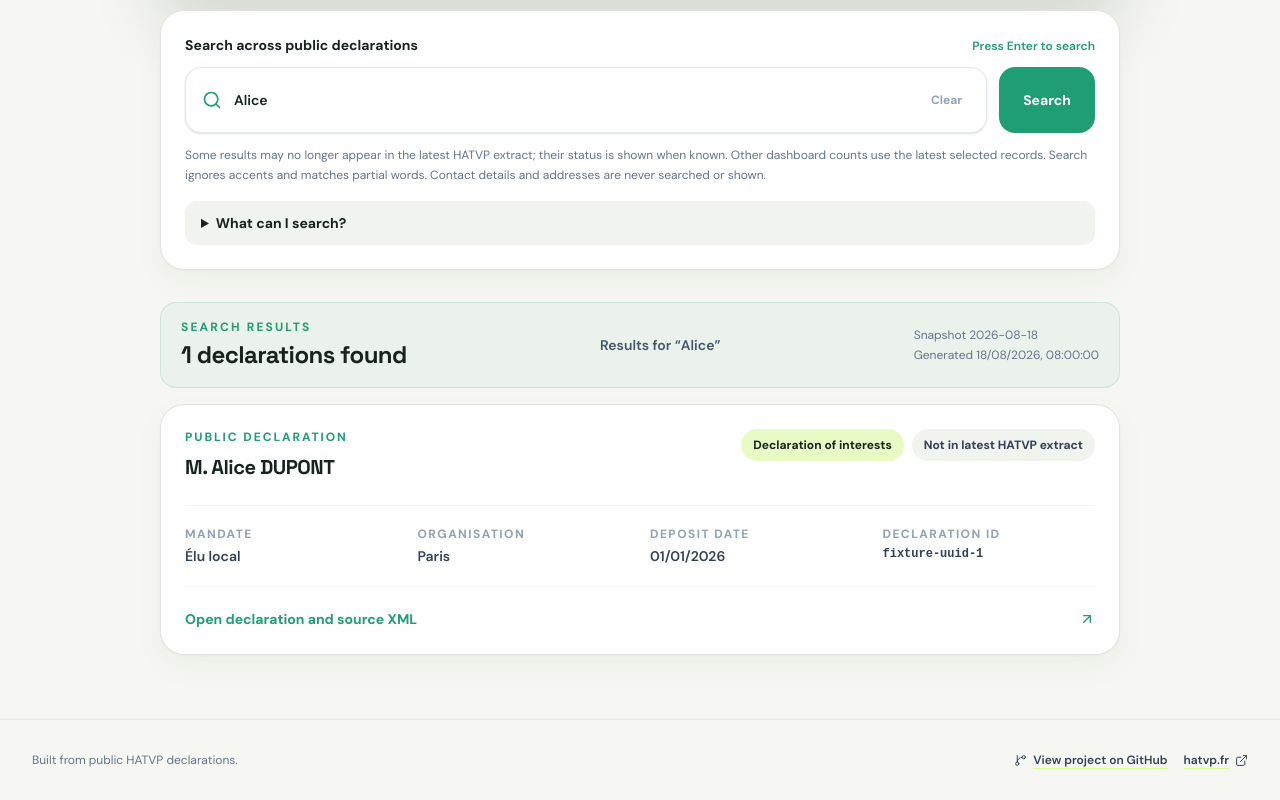
Test: dashboard application › labels a declaration preserved from an earlier HATVP extract
(page scrolled)
Expected: the text "Not in latest HATVP extract" is shown, top-left (912, 429), bottom-right (1095, 461)
Click the link "Open declaration and source XML".
click(301, 619)  # box top-left (185, 586), bottom-right (1095, 630)
(page scrolled)
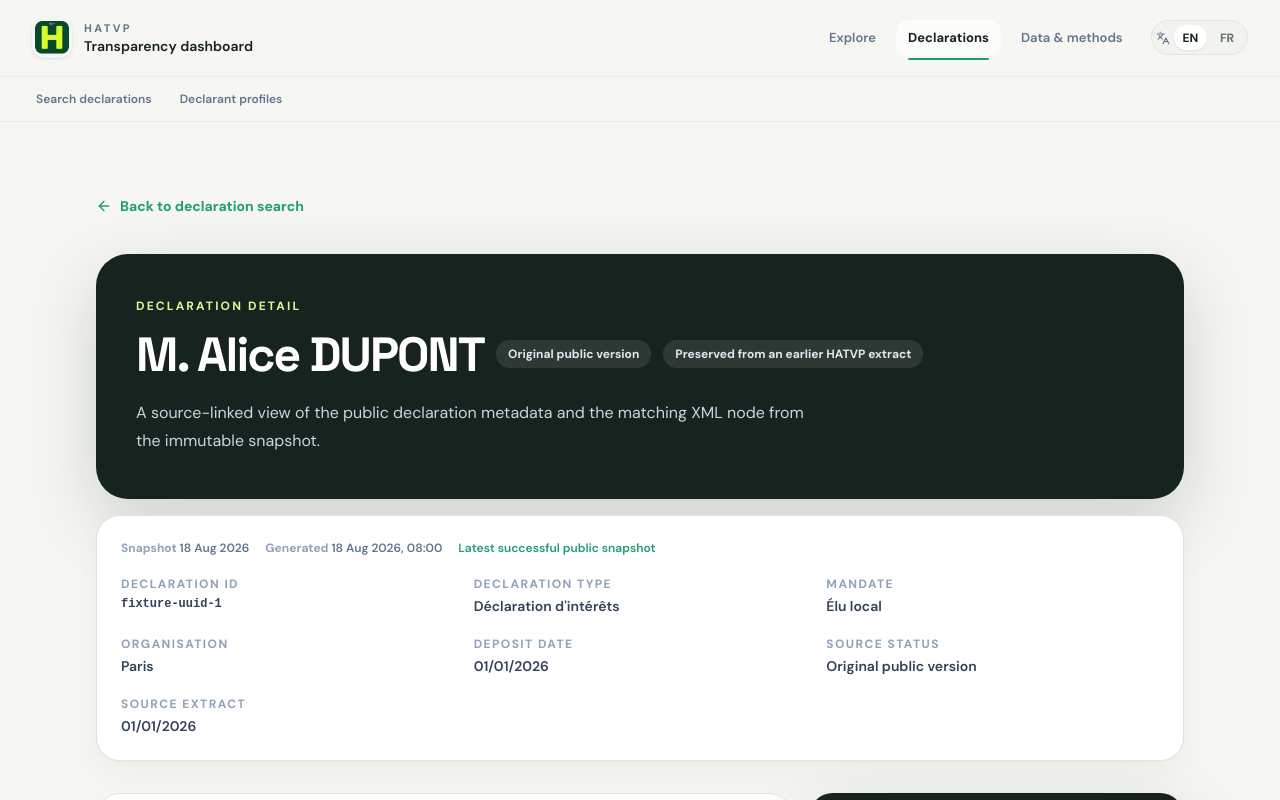
Expected: the text "Preserved from an earlier HATVP extract" is shown, top-left (663, 340), bottom-right (923, 368)
Expected: the text "Source extract" is shown, top-left (121, 696), bottom-right (246, 712)
